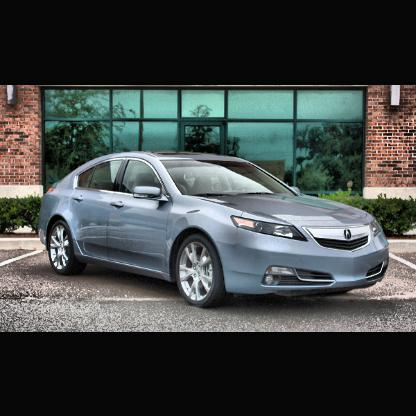Acura TL Sedan 2012: (39, 150, 391, 306)
